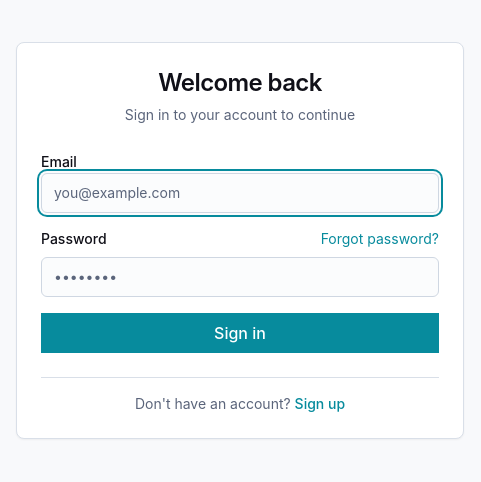
Test: Auth Pages › LoginPage › should validate email field
Click the button "Sign in".
click(240, 332)  # box [41,312,439,352]
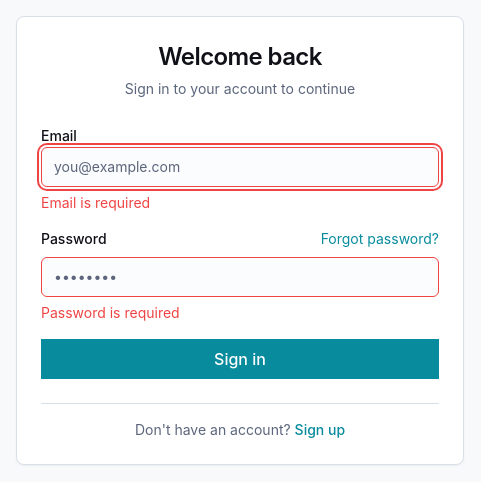
Result: the text "Email is required" is shown at [41,194,150,210]
